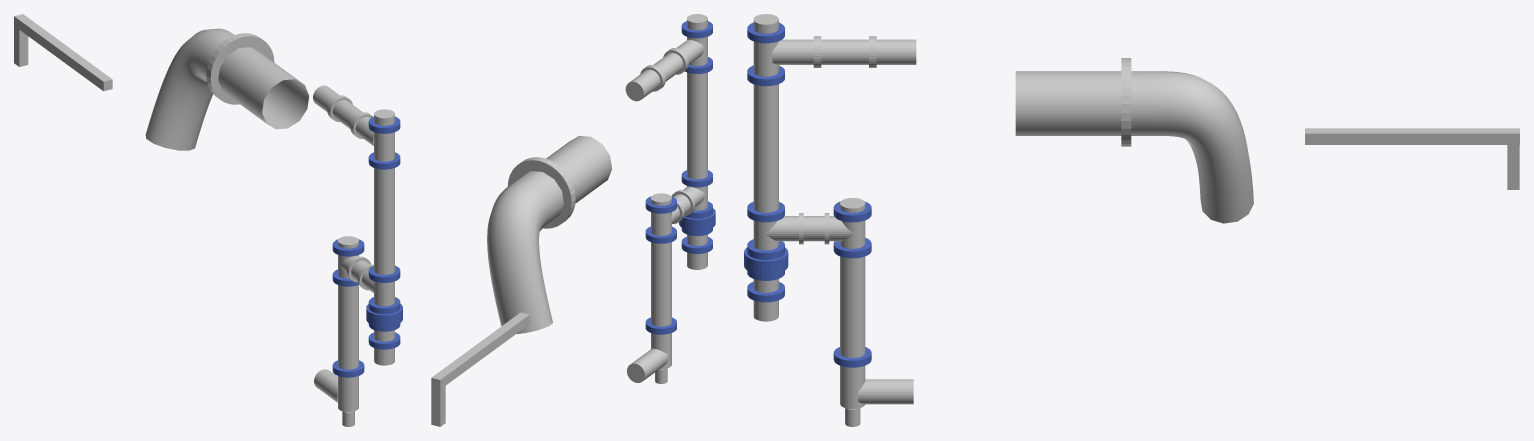
File: Pipe.obj
3 renders of one model, left to right at view 1: azimuth 30°, elevation 25°; view 2: azimuth 150°, elevation 25°; view 3: azimuth 270°, elevation 25°, orthographic. The views are drawn at different scales.
Parts seen in each view (by area): view 1: NURBS_路径, 柱体.145, 柱体.099, 立方体, 柱体.062, 柱体.079, 柱体.098, 立方体.001, 柱体.143; view 2: NURBS_路径, 柱体.145, 柱体.099, 立方体, 柱体.079, 柱体.062, 柱体.098, 立方体.001, 柱体.143, 柱体.122, 柱体.115, 柱体.088 (+4 smaller); view 3: NURBS_路径, 柱体.145, 柱体.099, 立方体, 柱体.079, 柱体.143, 柱体.098, 柱体.062.
Part boxes in pixels (x1,y1,x2,y2): NURBS_路径: [145, 28, 309, 150]; 柱体.145: [374, 109, 394, 365]; 柱体.099: [338, 236, 358, 411]; 立方体: [14, 14, 112, 91]; 柱体.062: [206, 33, 274, 104]; 柱体.079: [313, 85, 373, 145]; 柱体.098: [314, 369, 337, 402]; 立方体.001: [14, 23, 28, 66]; 柱体.143: [340, 255, 374, 292]; NURBS_路径: [487, 136, 611, 333]; 柱体.145: [687, 14, 707, 269]; 柱体.099: [651, 193, 671, 369]; 立方体: [431, 312, 529, 389]; 柱体.079: [625, 39, 703, 101]; 柱体.062: [507, 157, 575, 228]; 柱体.098: [627, 348, 668, 382]; 立方体.001: [431, 383, 445, 426]; 柱体.143: [671, 186, 705, 223]; 柱体.122: [645, 196, 676, 213]; 柱体.115: [645, 226, 676, 243]; 柱体.088: [645, 317, 676, 334]; NURBS_路径: [1015, 71, 1253, 223]; 柱体.145: [753, 14, 778, 321]; 柱体.099: [840, 198, 865, 409]; 立方体: [1305, 128, 1519, 144]; 柱体.079: [772, 39, 916, 64]; 柱体.143: [766, 216, 853, 241]; 柱体.098: [858, 379, 913, 404]; 柱体.062: [1121, 58, 1131, 146].
Bounding box in the file's own units: 2.07 × 7.06 × 12.27.
